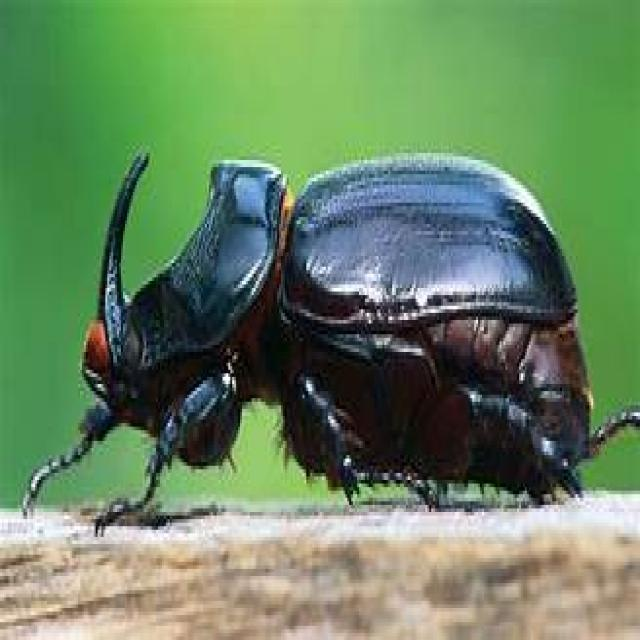Rhino-beetle: (52, 113, 608, 561)
